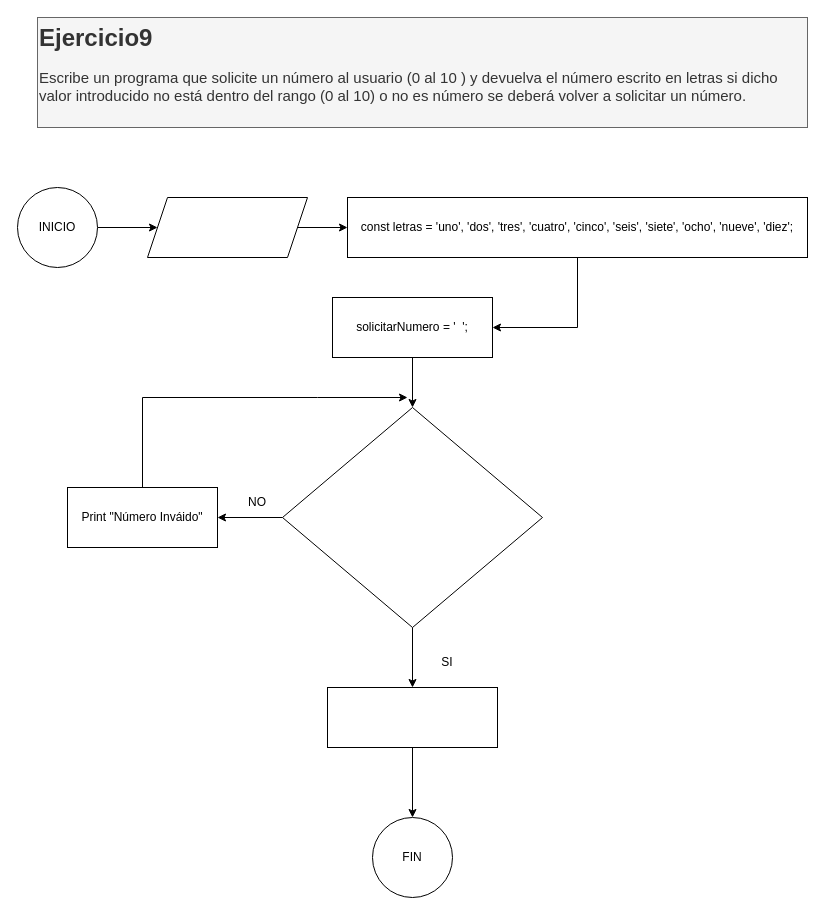
Image size: 825x915. Some labels were removed from this diagram. Here are the shapes that lost their labels. From the top down, the centre of each, then its label:
pixel 227 227: Introducir número
pixel 412 517: isNaN(numero) numero <0 || numero >10?
pixel 412 717: Print "Número"
